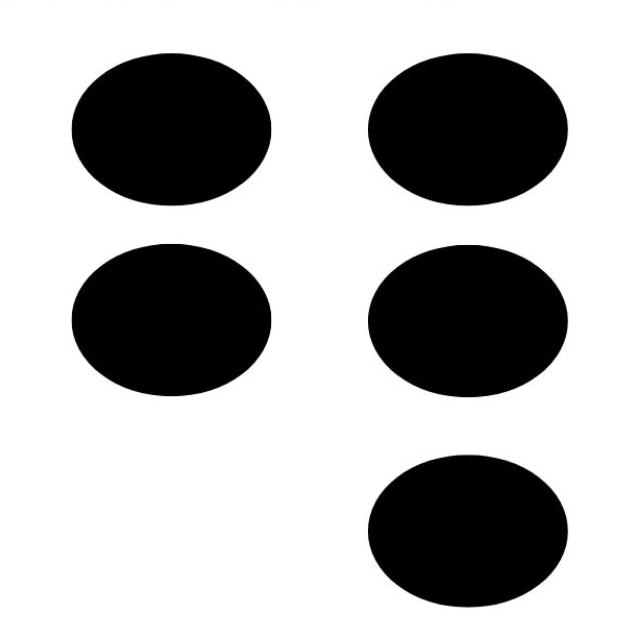one_cell_part_word_er: (70, 46, 570, 608)
